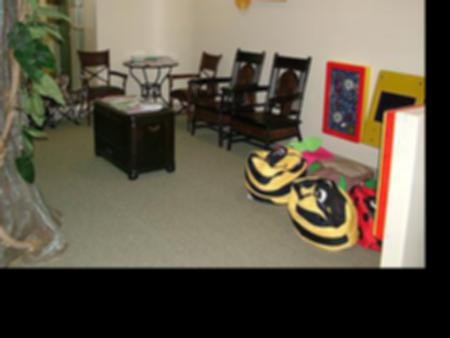Otro Obstaculo: (287, 178, 362, 248), (242, 151, 305, 199)
